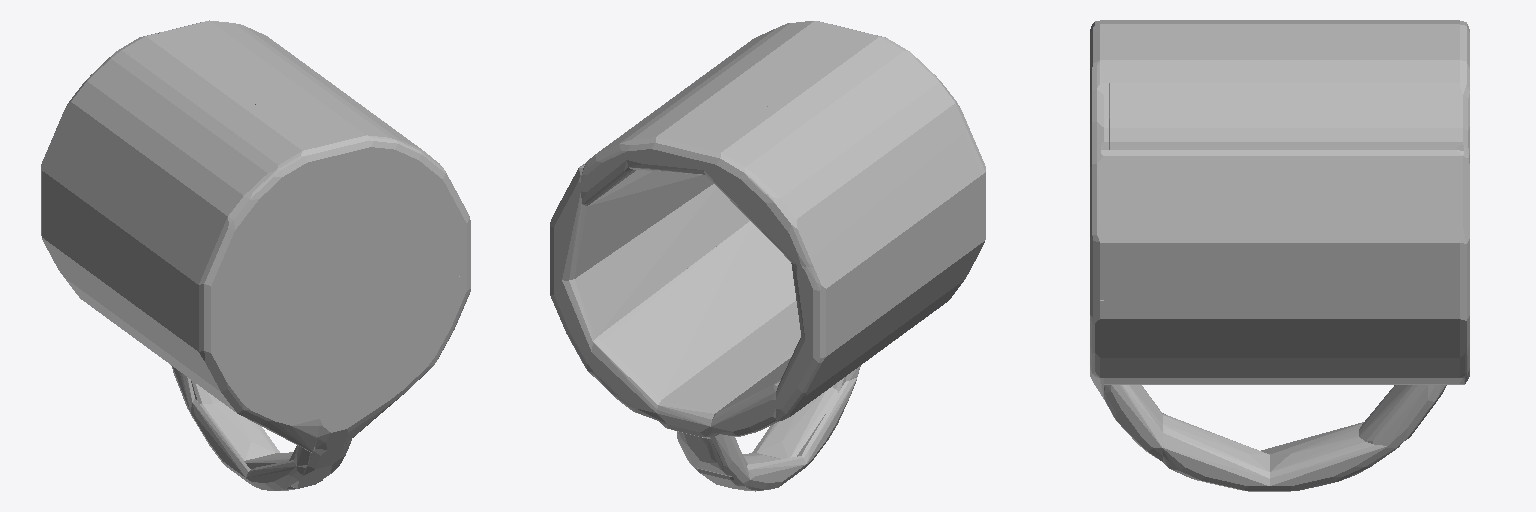
robot.urdf — root:
<?xml version="1.0"?>
<robot name="root">
  <link name="base_link">
    <visual>
      <origin xyz="0 0 0" rpy="0 0 0" />
      <geometry>
        <mesh filename="../meshes/unidex_core_mug-e9499e4a9f632725d6e865157050a80e_006.obj" scale="1.0000E+00 1.0000E+00 1.0000E+00" />
      </geometry>
      <material name="">
        <color rgba="7.50E-01 7.50E-01 7.50E-01 1" />
      </material>
    </visual>
    <collision>
      <origin xyz="0 0 0" rpy="0 0 0" />
      <geometry>
        <mesh filename="../meshes/unidex_core_mug-e9499e4a9f632725d6e865157050a80e_006.obj" scale="1.0000E+00 1.0000E+00 1.0000E+00" />
      </geometry>
    </collision>
  </link>
</robot>

--- Facts derived from the render (not from the file) ---
Views: 3 orthographic renders of the robot side by side, from view 1: azimuth 30°, elevation 25°; view 2: azimuth 150°, elevation 25°; view 3: azimuth 270°, elevation 25°.
Robot: root — 1 links, 0 joints (none); root link base_link; default pose: all joints at 0.
Visible links, largest first — view 1: base_link; view 2: base_link; view 3: base_link.
Link boxes in pixels (box(x1,y1,x2,y2)): base_link: box(41, 20, 470, 490); base_link: box(550, 21, 985, 491); base_link: box(1090, 20, 1469, 491).
Size in the robot's own frame: 0.0684 by 0.0724 by 0.0925 metres.
Meshes: 1 distinct files referenced, 1 mesh visuals loaded (1 OBJ).
